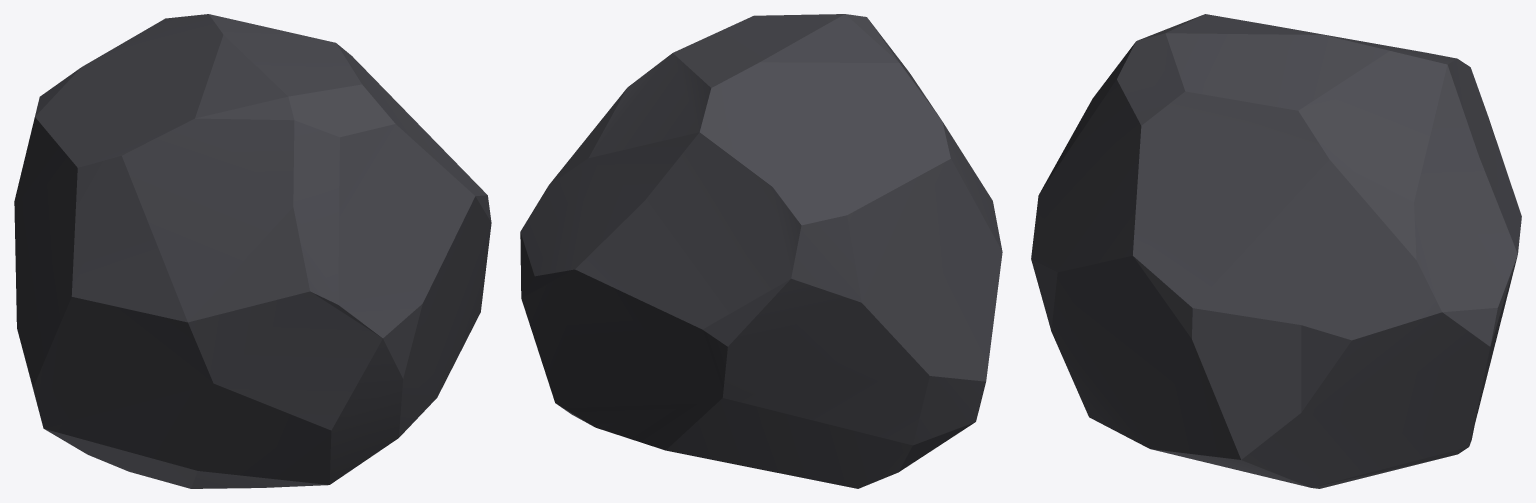
File: Environment_Rock1.fbx
3 views of the same model, side by side, from view 1: azimuth 30°, elevation 25°; view 2: azimuth 150°, elevation 25°; view 3: azimuth 270°, elevation 25° (orthographic). The views are drawn at different scales.
Parts seen in each view (by area): view 1: Rock001; view 2: Rock001; view 3: Rock001.
Part boxes in pixels (<box>): Rock001: <box>14,14,491,488</box>; Rock001: <box>520,14,1002,488</box>; Rock001: <box>1031,14,1521,488</box>.
Size of the model in its own units: 241 by 230 by 226.
